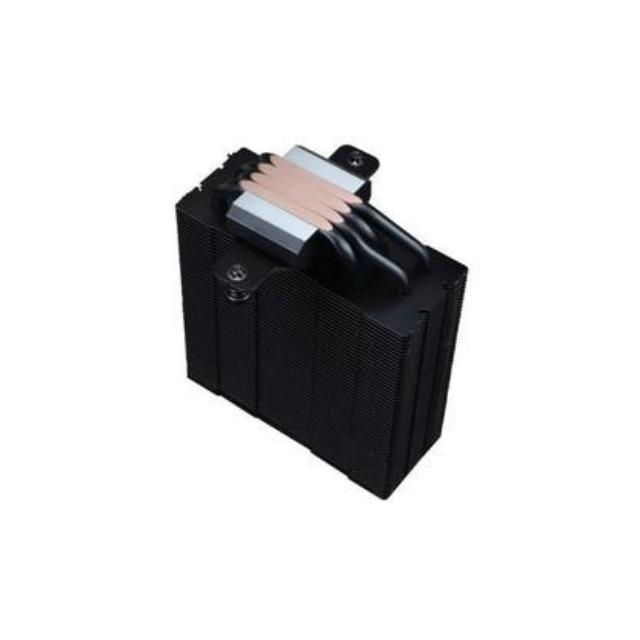CPU_Fan: (171, 145, 469, 497)
